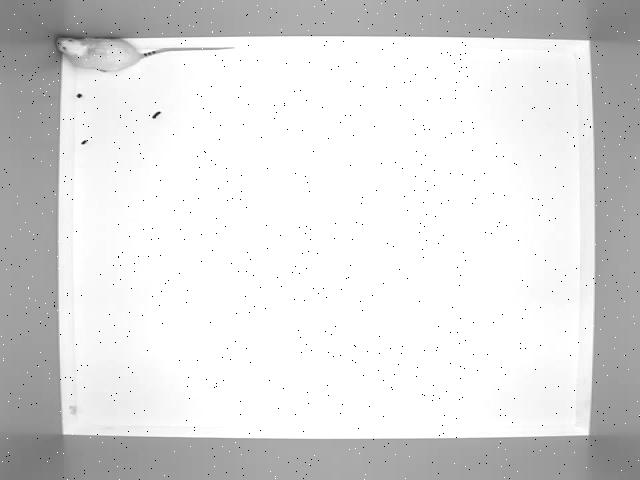Tikus: (51, 31, 242, 82)
